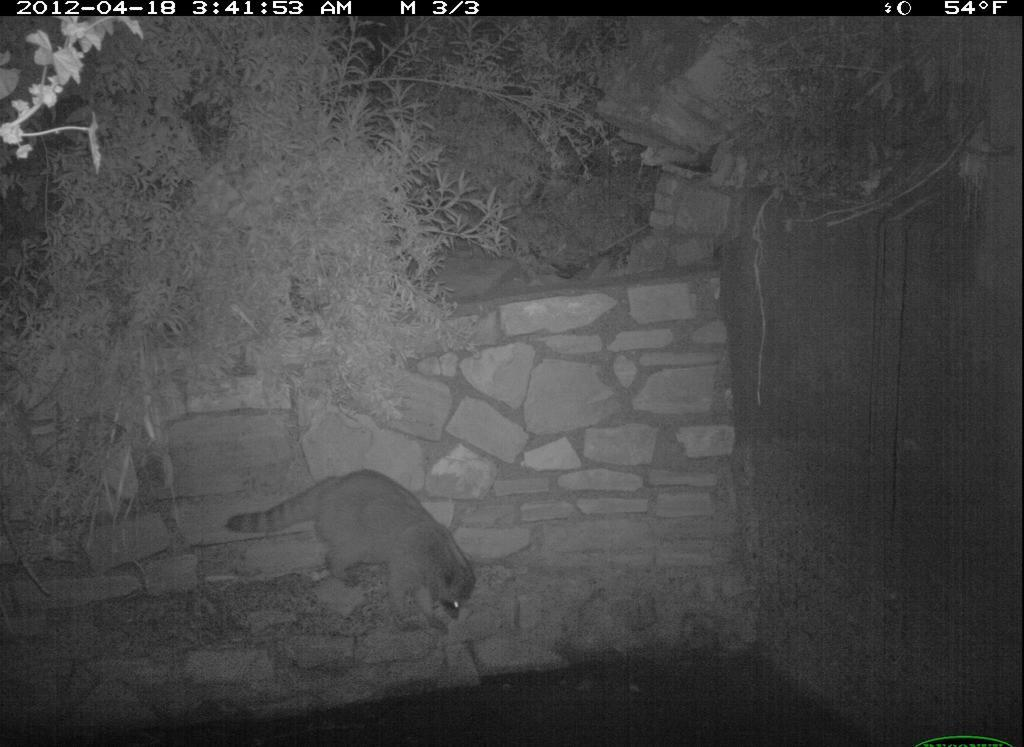raccoon: (223, 460, 478, 635)
